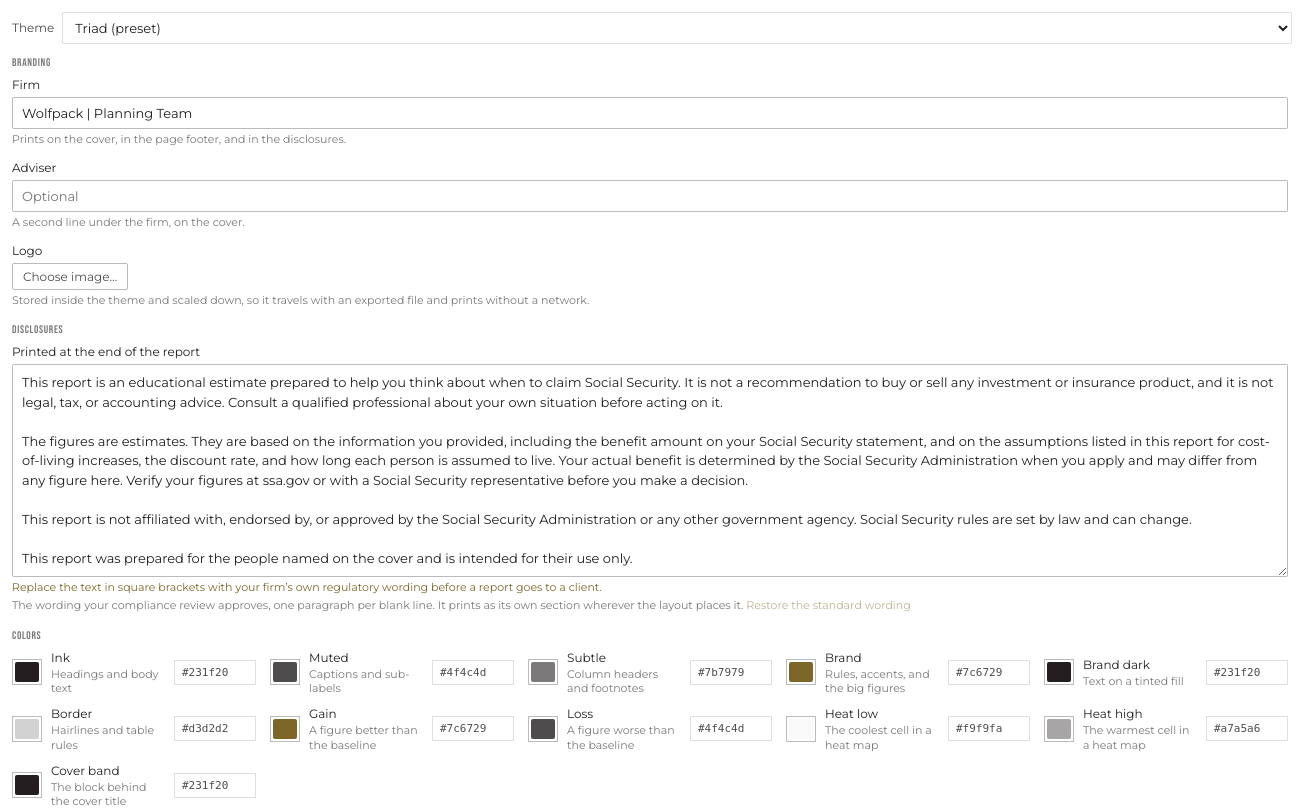
ReportThemeEditor › puts the current color back when a half-typed one is abandoned
The width and height of the screenshot is (1304, 812).
Replace the text in the field named "Brand hex" with "#1f4" at (989, 672), box [948,660,1030,685]
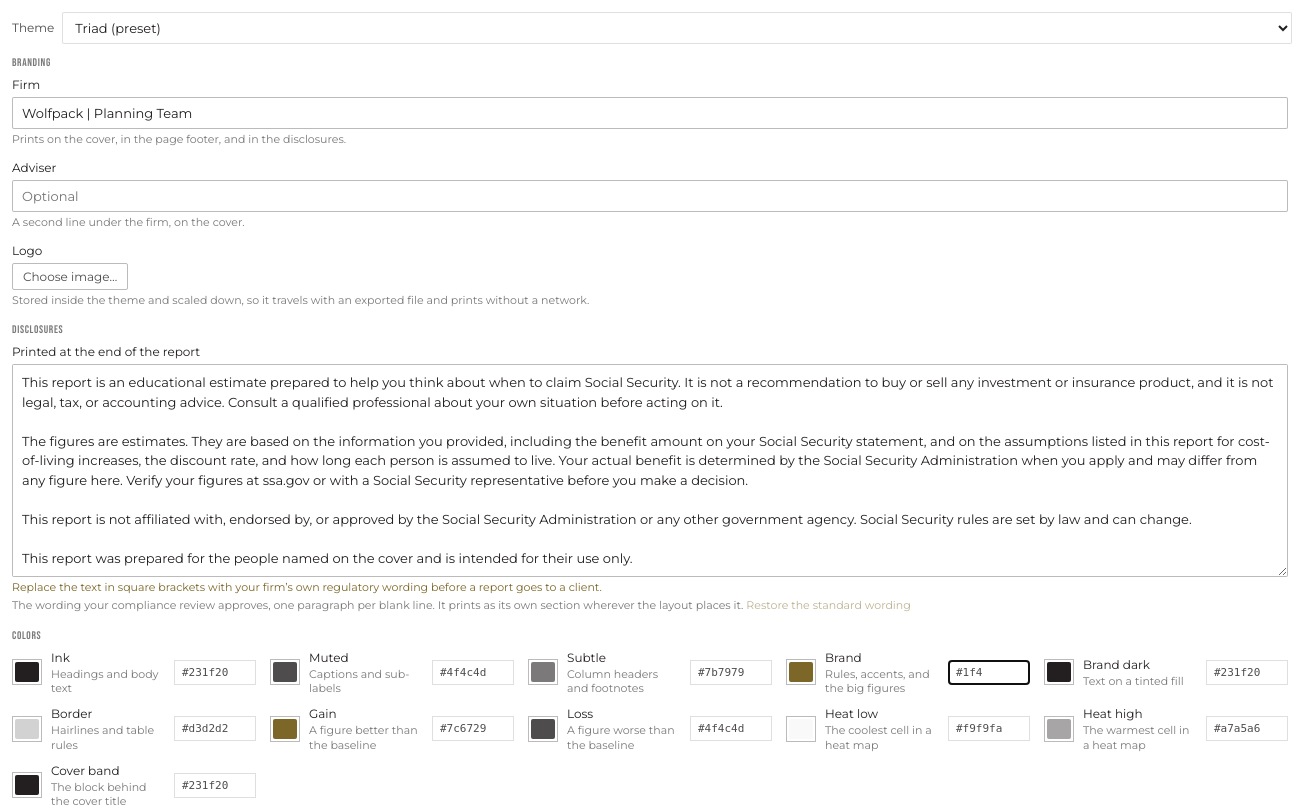
Press Tab
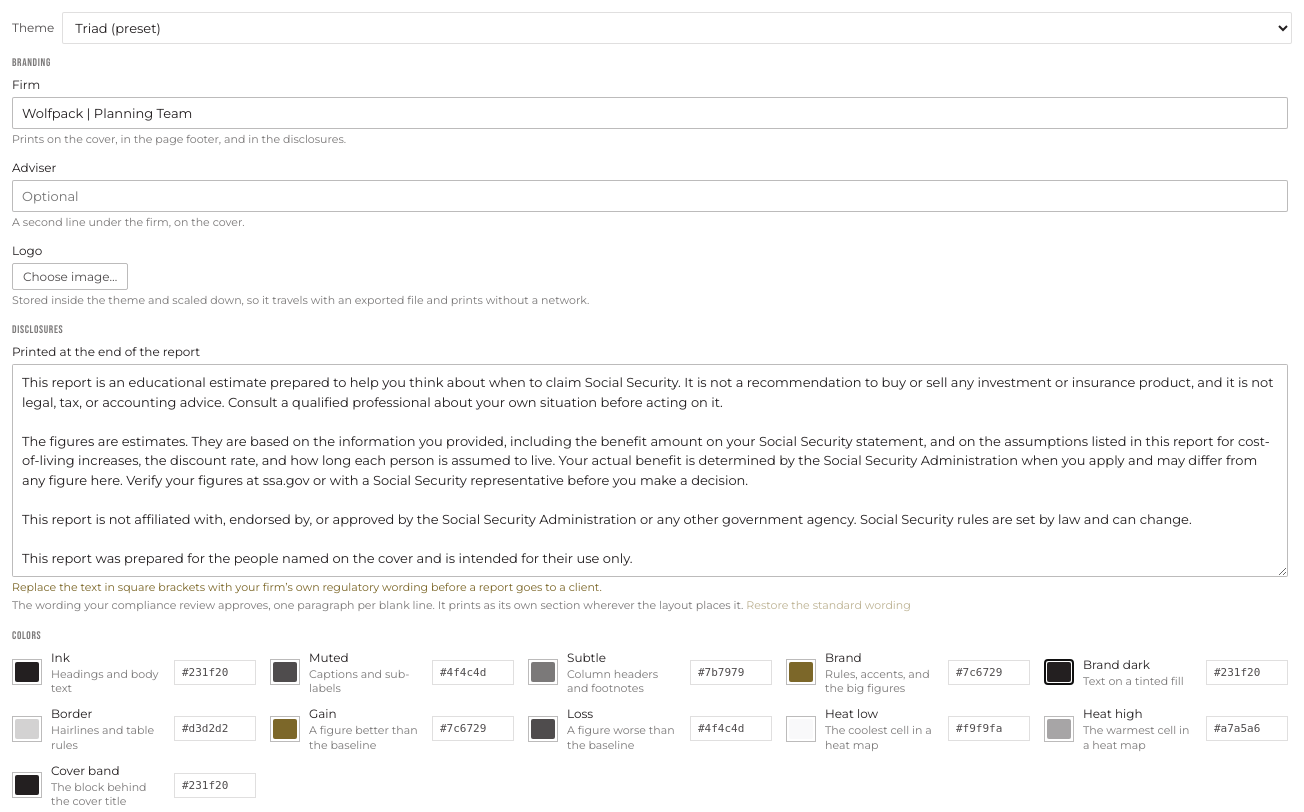
Now the field named "Brand hex" holds "#7c6729", box [948,660,1030,685]
